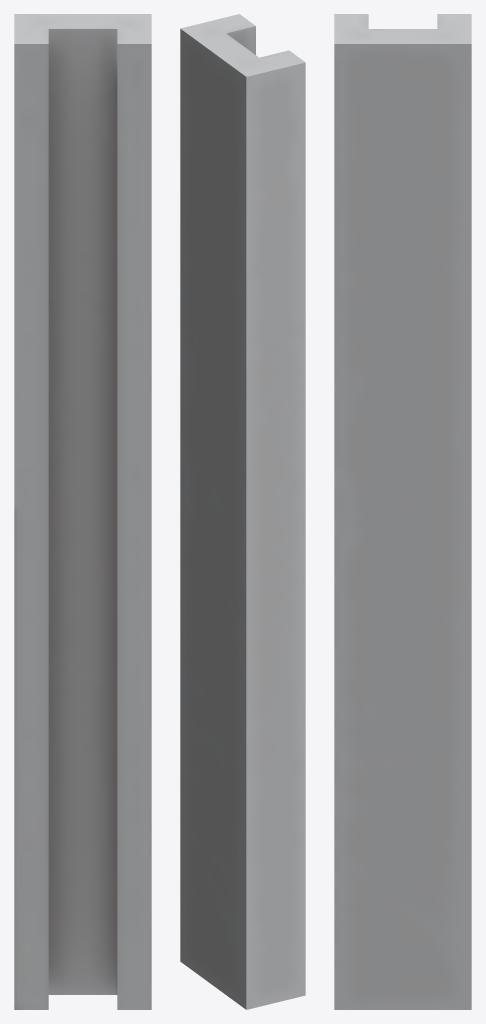
File: Pfb_SteelFrame.fbx
3 renders of one model, left to right at view 1: azimuth 90°, elevation 25°; view 2: azimuth 210°, elevation 25°; view 3: azimuth 270°, elevation 25°, orthographic. The views are drawn at different scales.
Visible parts, largest first — view 1: Mat_SteelFrame_01; view 2: Mat_SteelFrame_01; view 3: Mat_SteelFrame_01.
Boxes of the visible parts, x1,y1,x2,y2 form: Mat_SteelFrame_01: (14, 14, 151, 1009); Mat_SteelFrame_01: (180, 14, 305, 1009); Mat_SteelFrame_01: (334, 14, 471, 1009).
Size of the model in its own units: 0.1665 by 2.5 by 0.3219.
Materials: 1 (1 with a texture image).
